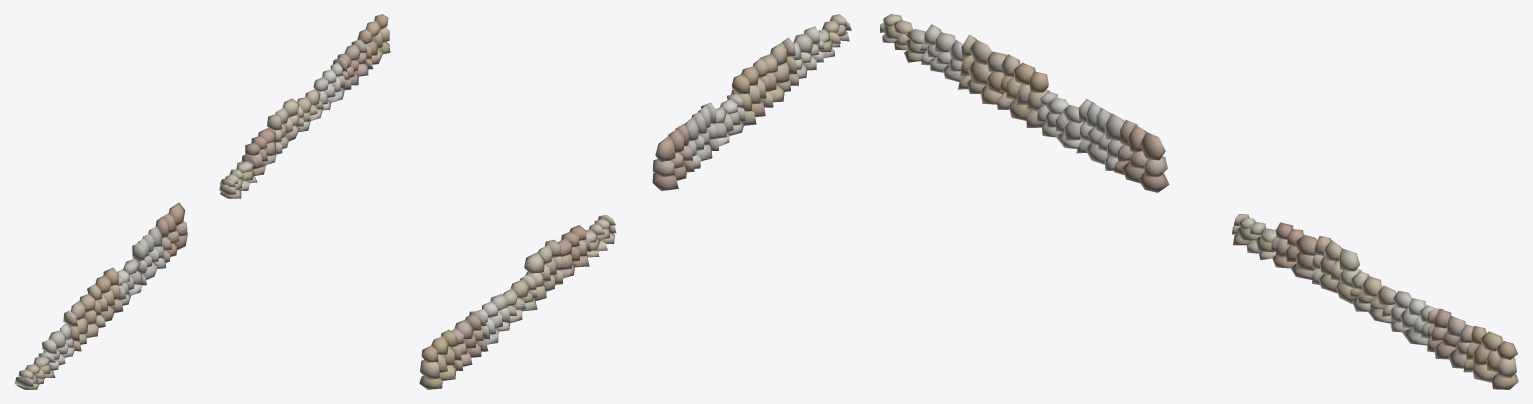
Rendered from farm_-23_-29_near.glb.
The picture shows the model from 3 angles, left to right: view 1: azimuth 30°, elevation 25°; view 2: azimuth 210°, elevation 25°; view 3: azimuth 270°, elevation 25°; orthographic projection. The views are drawn at different scales.
Visible parts, largest first — view 1: geometry_0; view 2: geometry_0; view 3: geometry_0.
Boxes of the visible parts, x1,y1,x2,y2 form: geometry_0: (14,14,390,389); geometry_0: (419,14,851,389); geometry_0: (880,14,1518,389).
Bounding box in the file's own units: 21.06 × 1.79 × 14.93.
